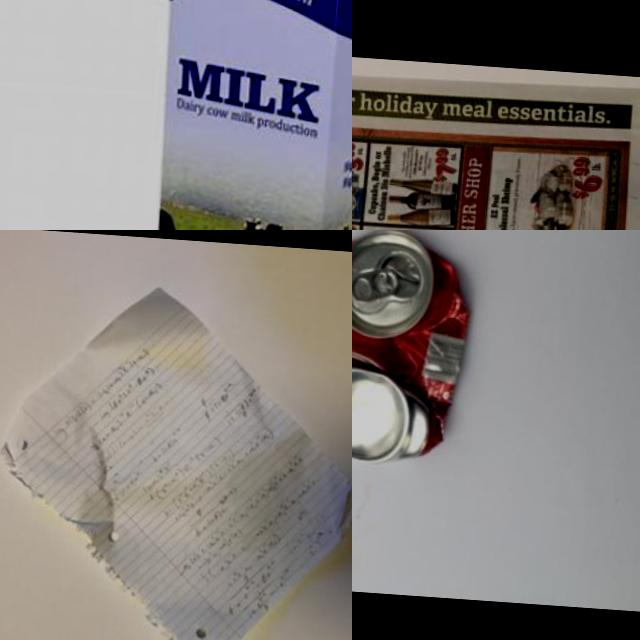aba de lata: (352, 264, 401, 301)
caixinha: (141, 0, 352, 230)
lata: (352, 230, 477, 468)
papel: (0, 275, 352, 640), (352, 61, 640, 230)
